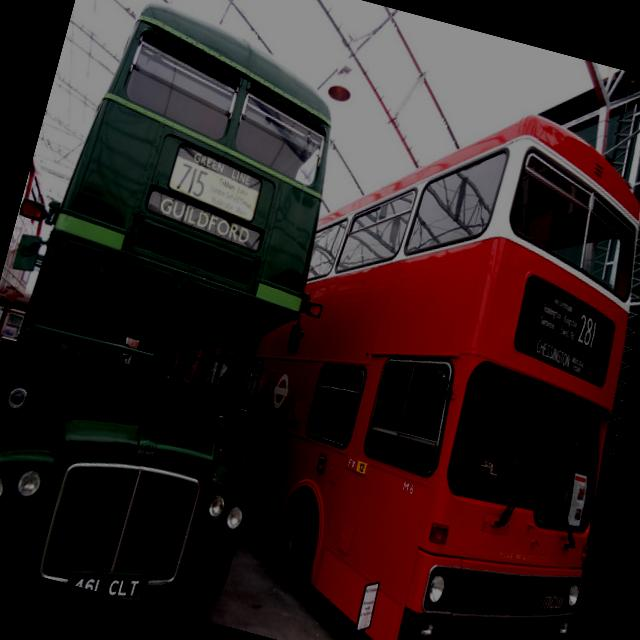Vehicle: (181, 59, 640, 640), (0, 0, 362, 622), (0, 147, 63, 456)
